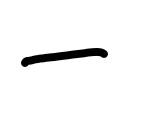minus: (22, 47, 106, 66)
